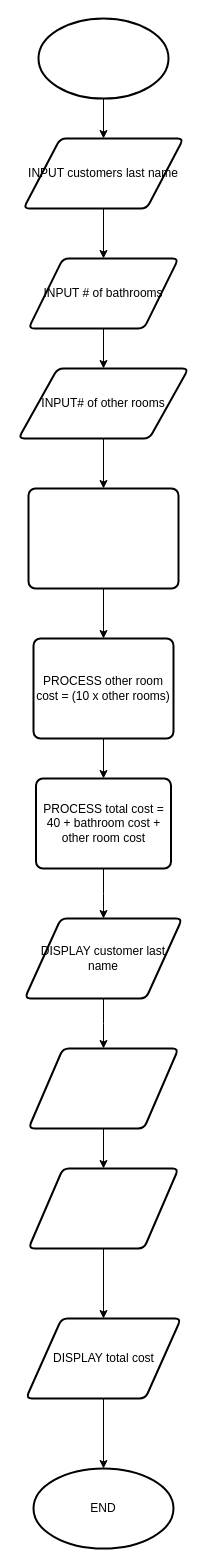
This 206x1566 diagram has some shape labels left out. The shapes that lost their labels are listed below. From the top down, each one's centre as x and y in pixels, then its label:
At point (103, 58): "START".
At point (103, 538): "PROCESS bathroom cost = (15 x bathrooms)".
At point (103, 1088): "DISPLAY # of bathrooms & cost".
At point (103, 1208): "DISPLAY # of other rooms & cost".
